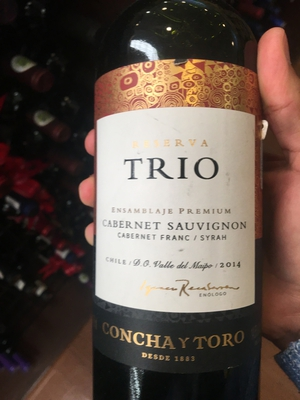trio cabernet sauvignon: (82, 22, 261, 400)
